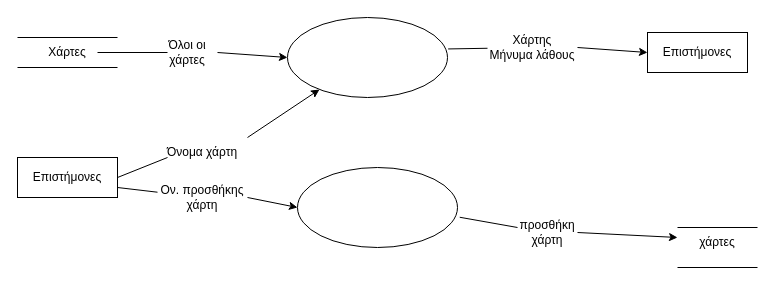
This 776x286 diagram has some shape labels left out. Each missing label, with the box of its shape:
1.1 Αναζήτηση χάρτη: (286, 16, 448, 98)
1.2 Προσθήκη χάρτη: (296, 166, 458, 248)
